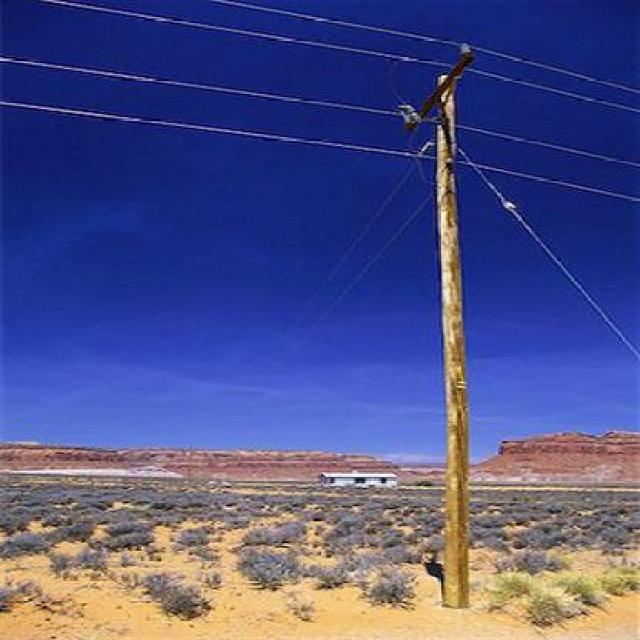pole: (368, 29, 517, 608)
